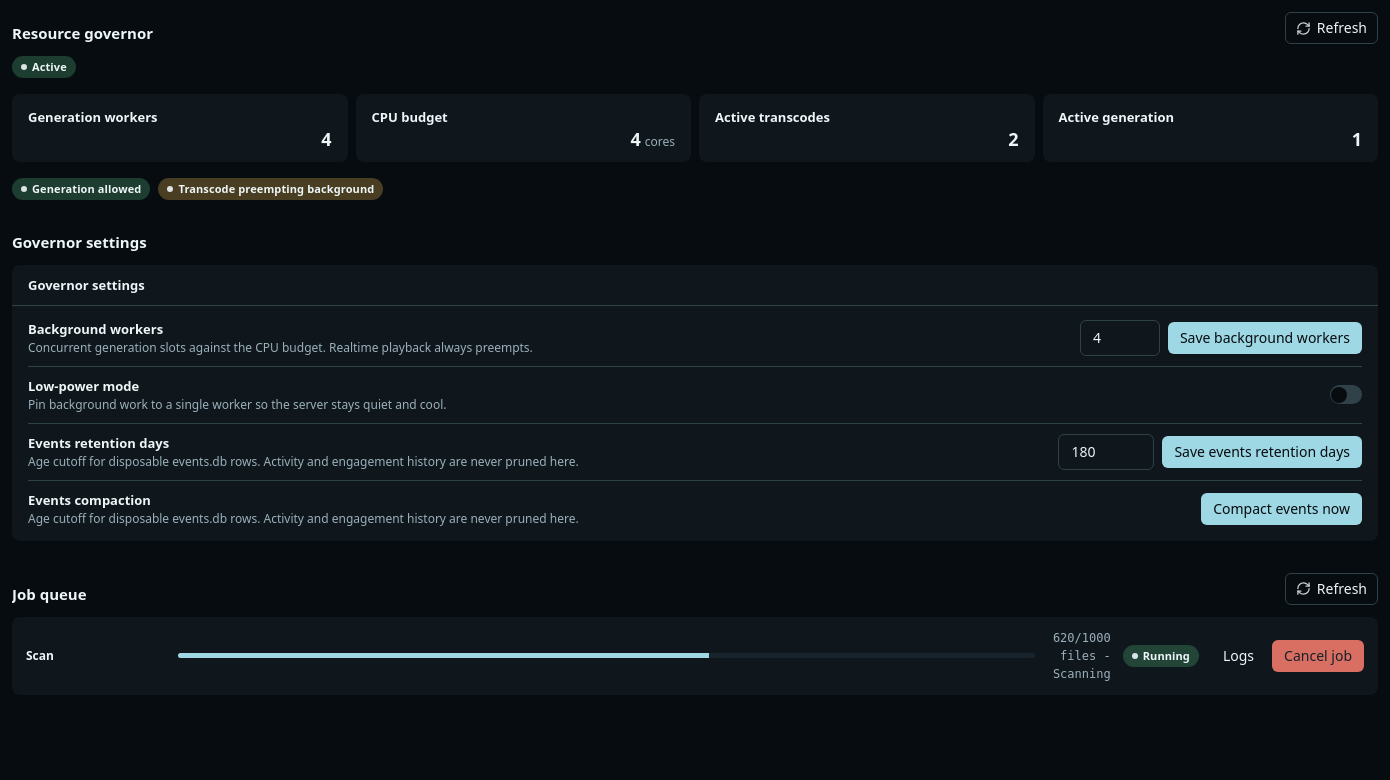
Test: OperationsControls › queues events compaction on demand
Expected: the number field named "Events retention days" is shown, [1058,434,1154,470]
Click the button "Compact events now". click: click(1282, 509)
box: [1201,493,1362,525]
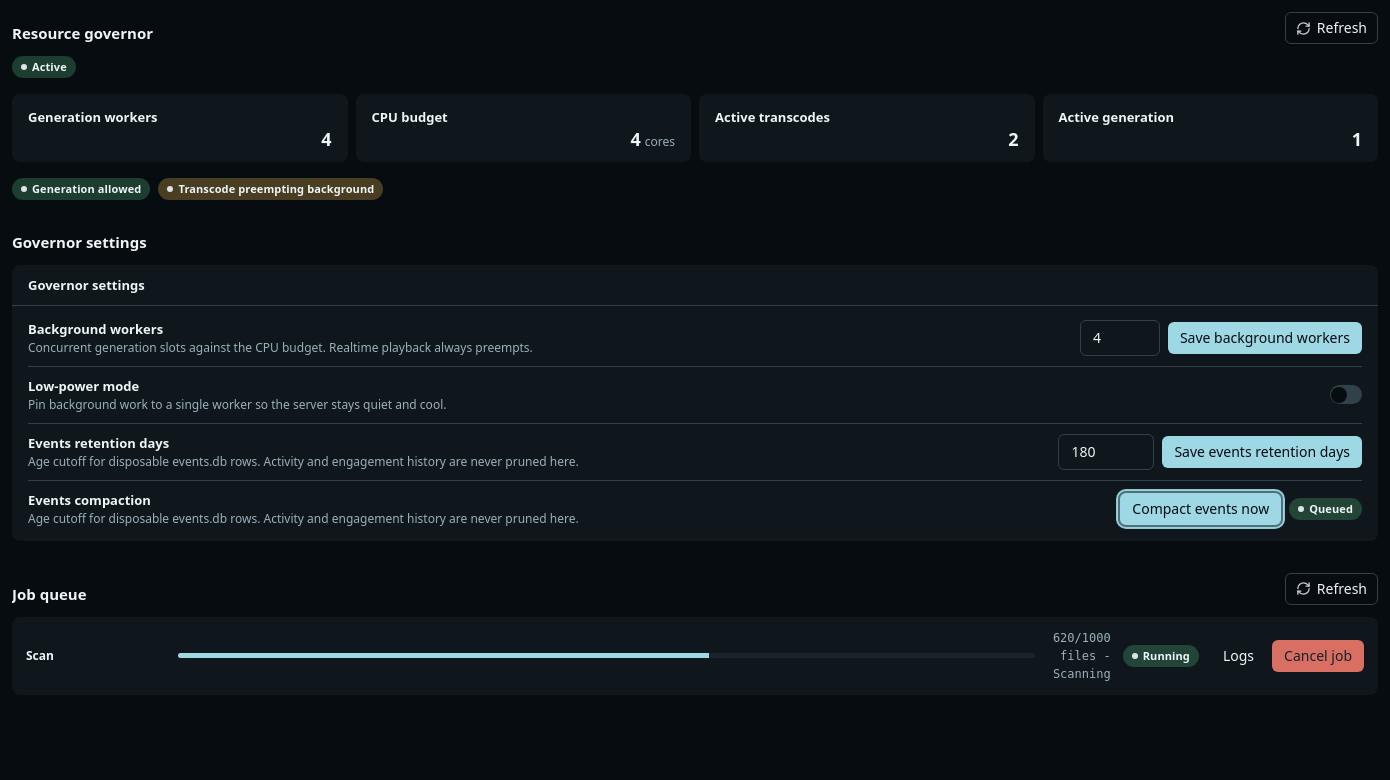
Now the text "Queued" is shown, box [1289,498,1362,520]
